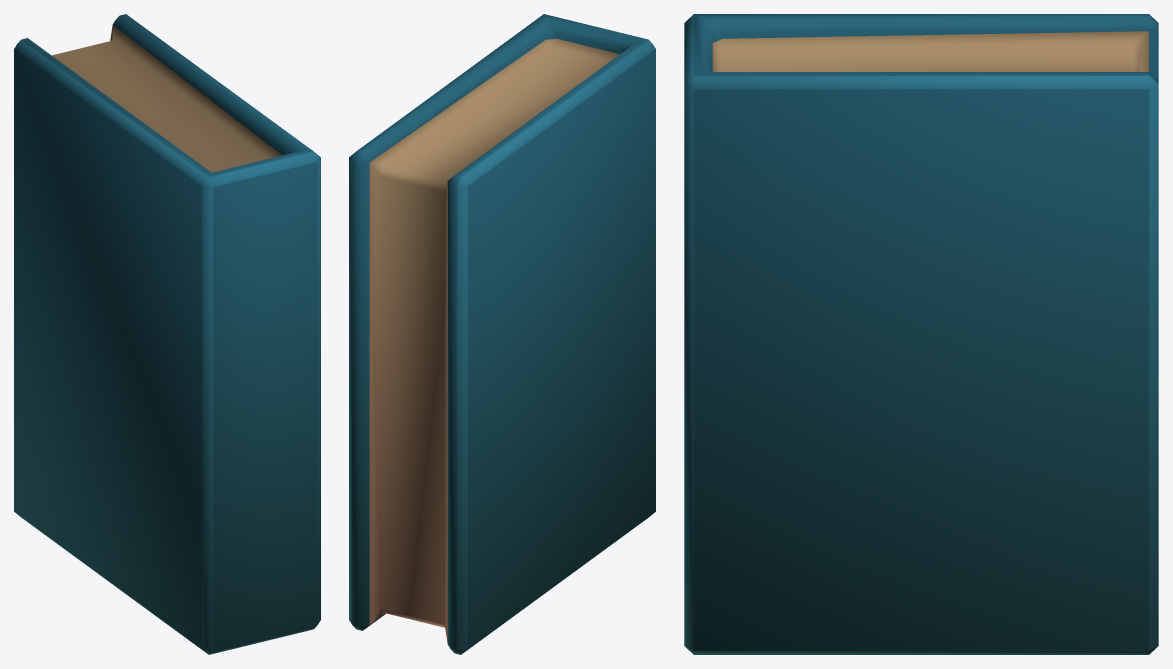
File: book2.fbx
3 renders of one model, left to right at view 1: azimuth 30°, elevation 25°; view 2: azimuth 150°, elevation 25°; view 3: azimuth 270°, elevation 25°, orthographic. The views are drawn at different scales.
Visible parts, largest first — view 1: book.002; view 2: book.002; view 3: book.002.
Part boxes in pixels (x1,y1,x2,y2): book.002: (14,14,320,654); book.002: (349,14,655,654); book.002: (684,14,1158,654).
Bounding box in the file's own units: 21.5 × 82.64 × 61.4.
